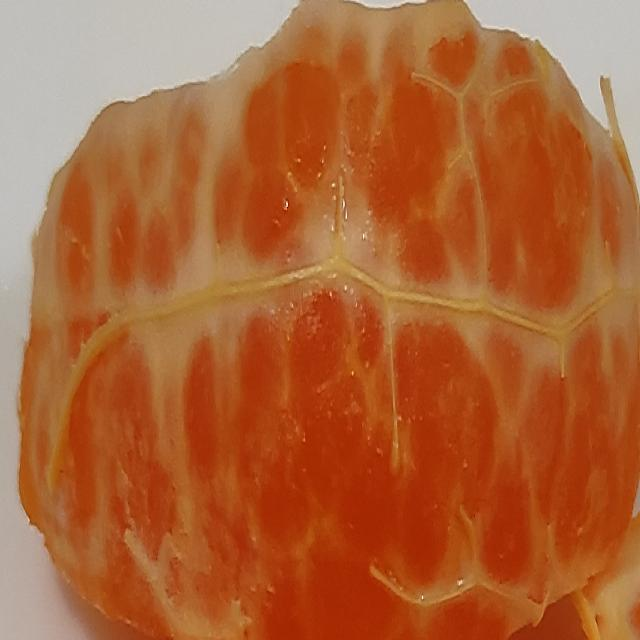Lime: (0, 1, 640, 639)
